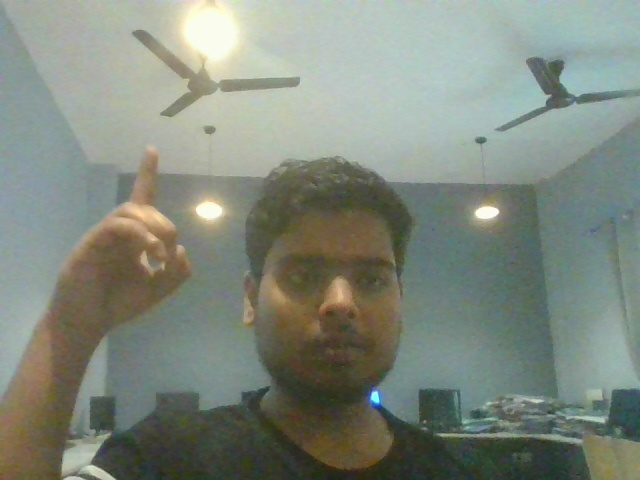D: (29, 140, 212, 352)
